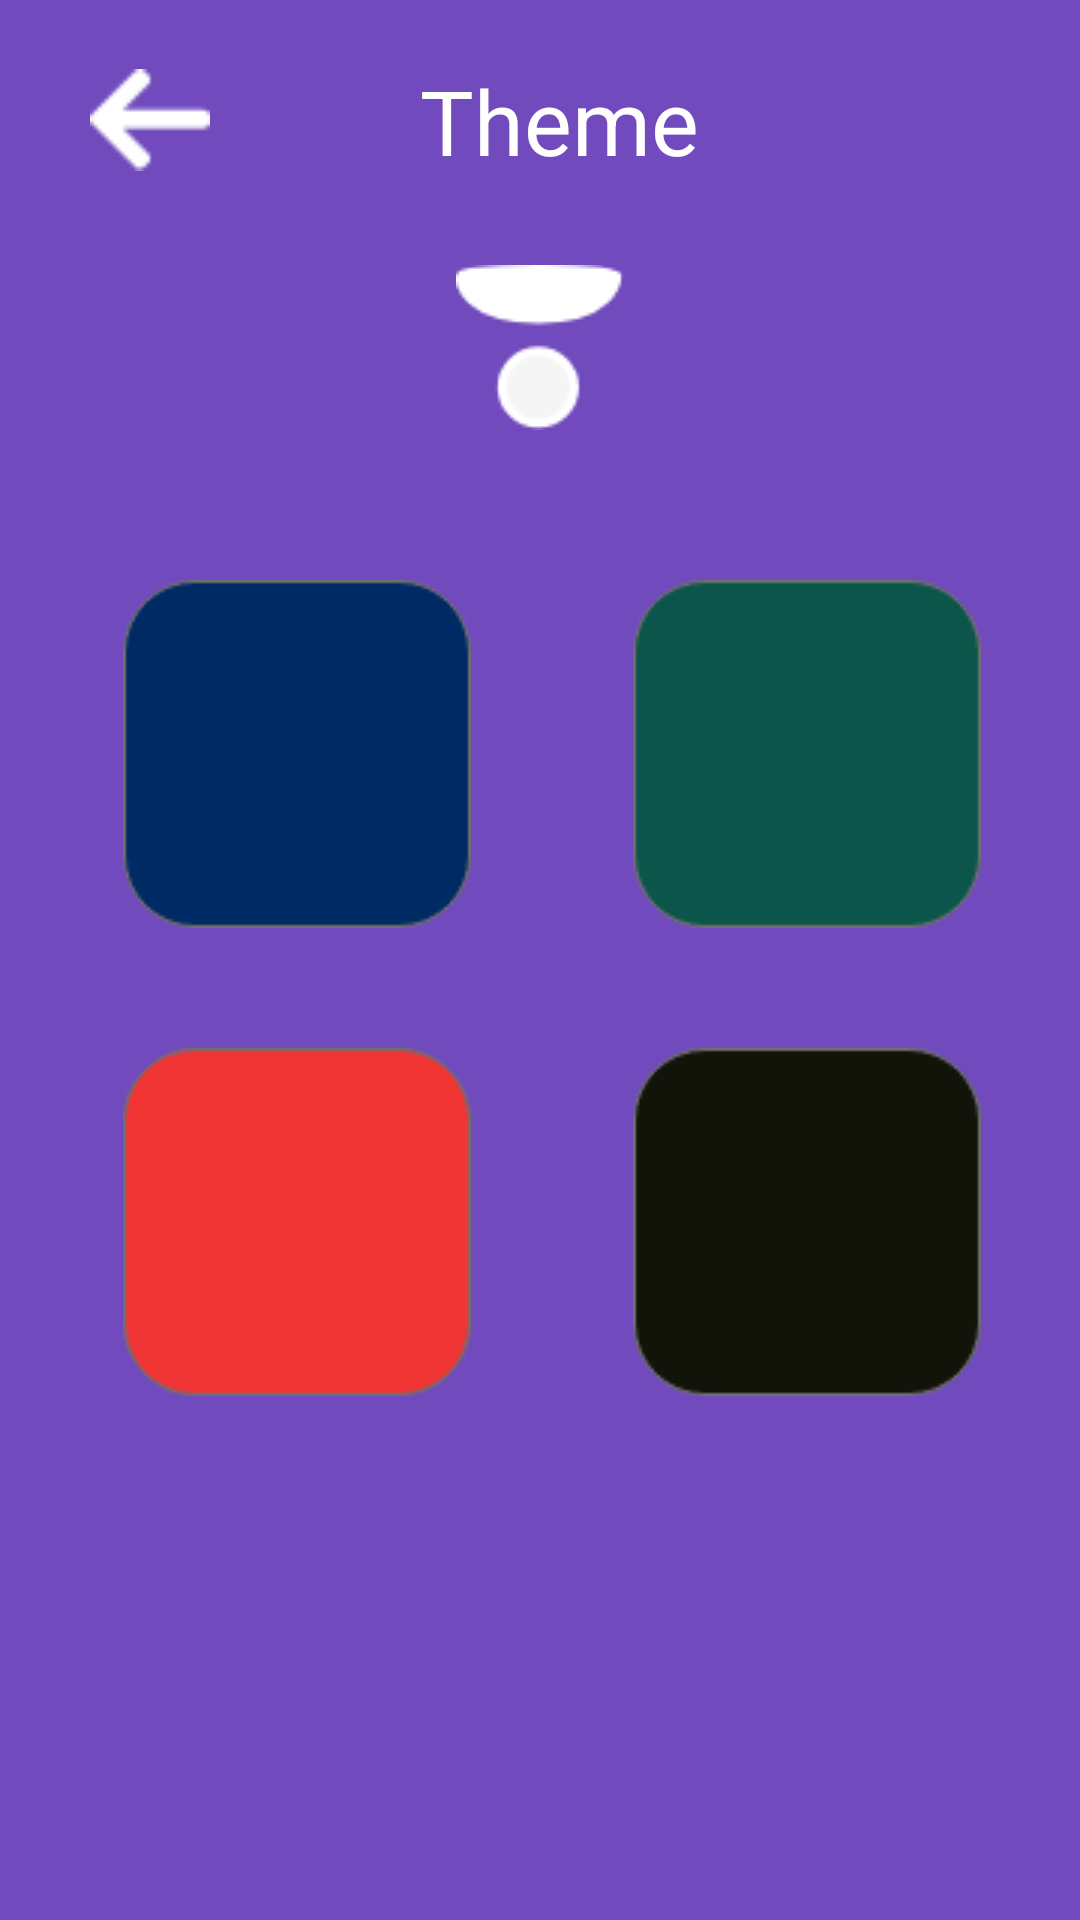

Icons on this 1080w x 1920h Android screen, each with its box as bbox(x1, y1, x2, y2):
back: bbox(90, 69, 210, 171)
